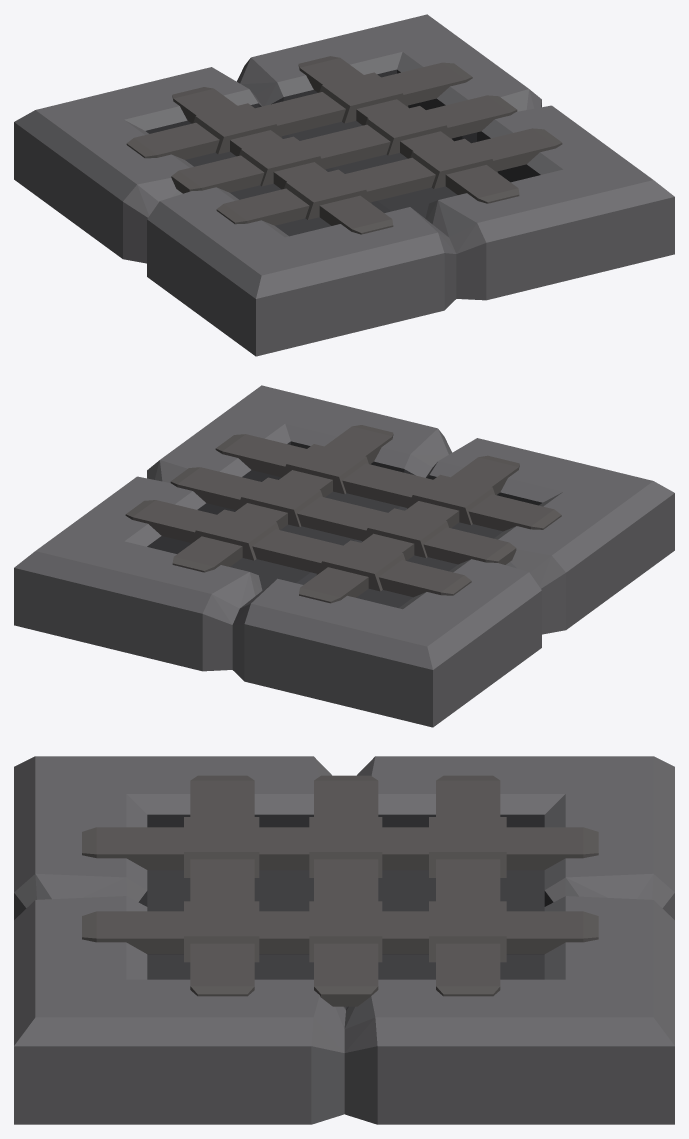
The model's file is SM_Prop_Grate_01.gltf.
3 views of the same model, one above another, from view 1: azimuth 30°, elevation 25°; view 2: azimuth 150°, elevation 25°; view 3: azimuth 270°, elevation 25° (orthographic). The views are drawn at different scales.
Visible parts, largest first — view 1: SM_Prop_Grate_01; view 2: SM_Prop_Grate_01; view 3: SM_Prop_Grate_01.
Boxes of the visible parts, left/top/right/bottom form: SM_Prop_Grate_01: left=14, top=14, right=674, bottom=356; SM_Prop_Grate_01: left=14, top=385, right=674, bottom=727; SM_Prop_Grate_01: left=14, top=756, right=674, bottom=1124.
Bounding box in the file's own units: 0.7322 × 0.1324 × 0.7322.
1 material, 1 textured.
